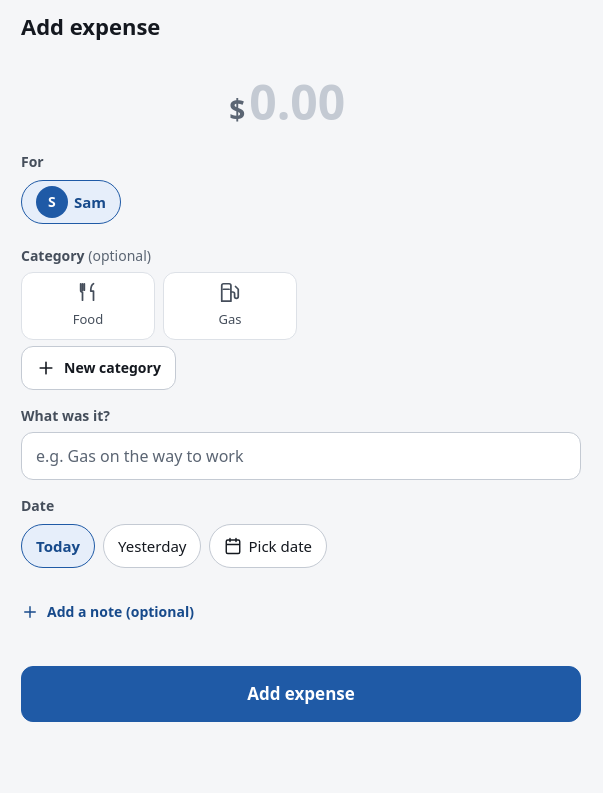
Scenario: AddExpensePage dates, errors and retries › Pick date reveals a date field
Expected: the field named "Amount" is shown, [249, 72, 373, 132]
Expected: the radio button labelled "S Sam" is shown, [21, 180, 121, 224]
Click the radio button labelled "Pick date". click: [268, 546]
box: [210, 524, 327, 568]
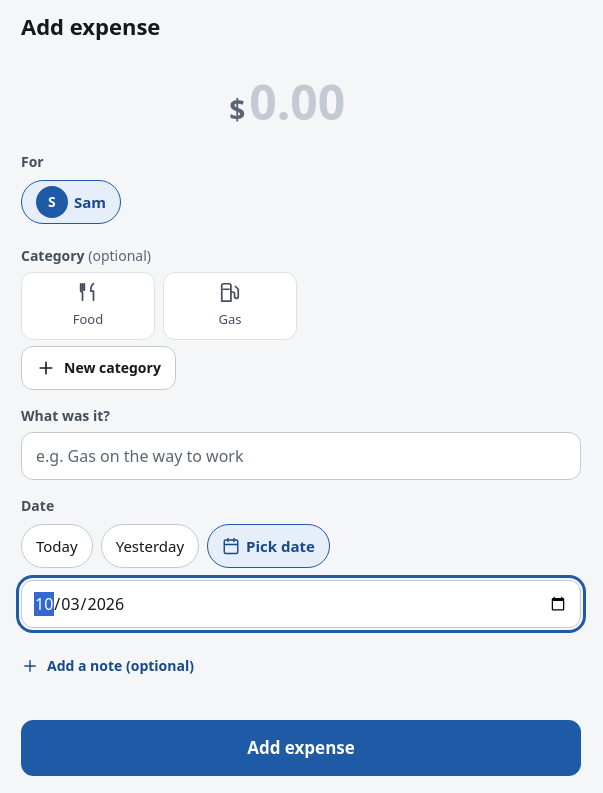
Result: the date field named "Pick a date" holds "2026-10-03" at [21, 580, 581, 628]
